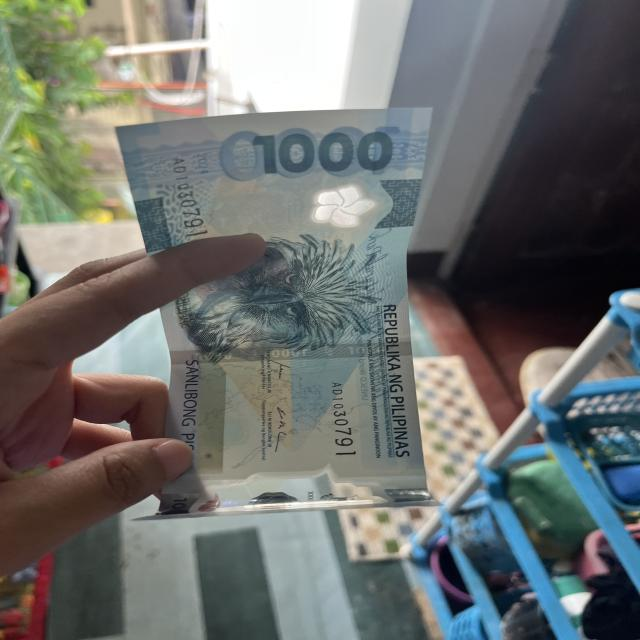clear_window: (157, 469, 436, 511)
eagle: (200, 237, 374, 346)
sampaguita: (280, 185, 380, 232)
security_thread: (166, 340, 412, 364)
serial_number: (166, 149, 212, 238), (317, 372, 363, 460)
